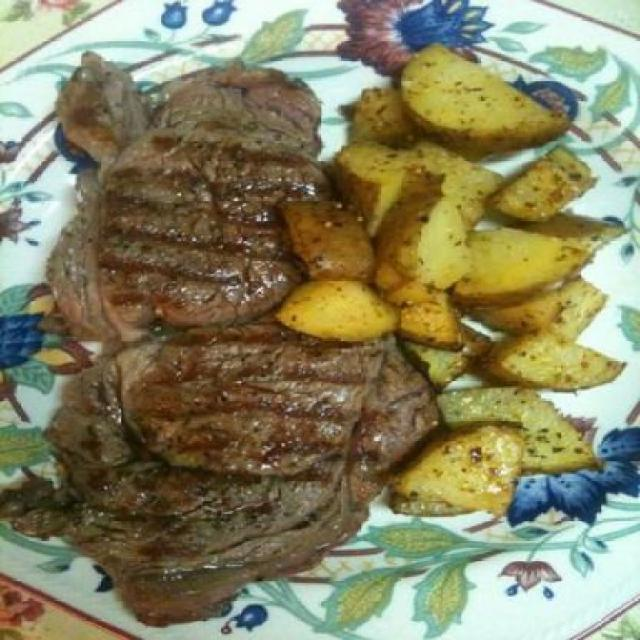Potato: (398, 39, 622, 530)
Steak: (29, 39, 388, 638)
